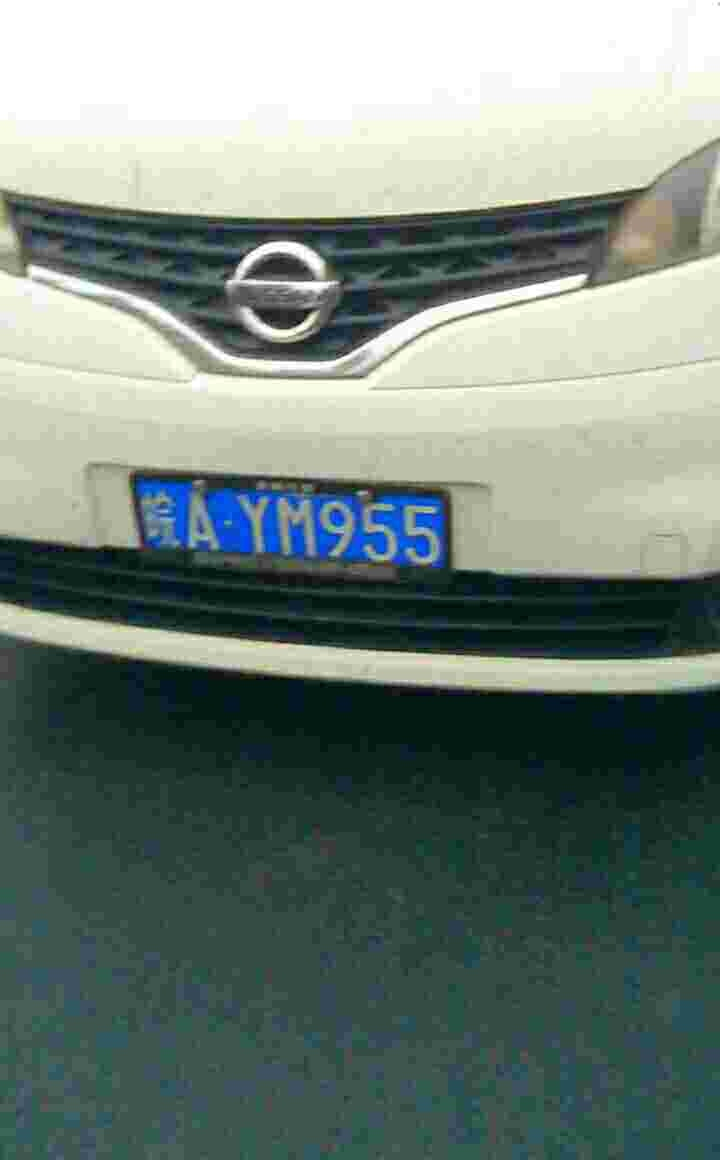license_plate: (147, 478, 442, 572)
